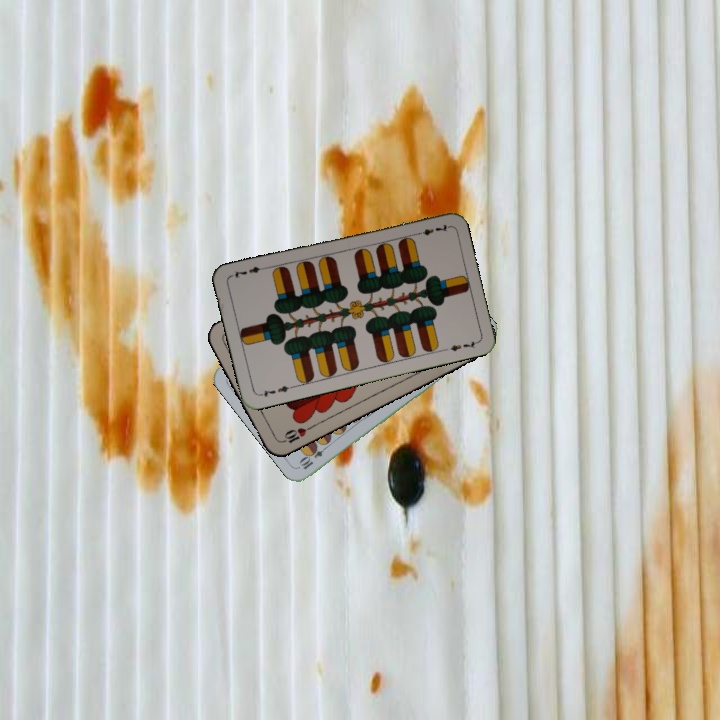E10: (296, 440, 331, 472)
E7: (256, 382, 296, 400), (411, 220, 451, 238)
H10: (276, 422, 315, 446)
